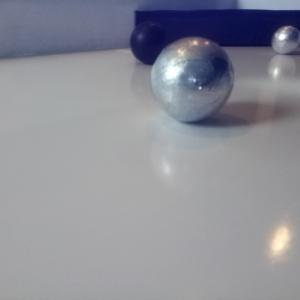zone: (135, 8, 300, 47)
